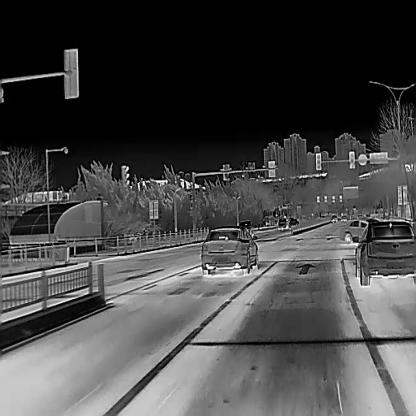car: (354, 219, 416, 286), (200, 224, 258, 275), (338, 218, 382, 244), (237, 219, 253, 238), (287, 218, 299, 228), (277, 217, 286, 230), (330, 214, 338, 222), (340, 214, 346, 222)
